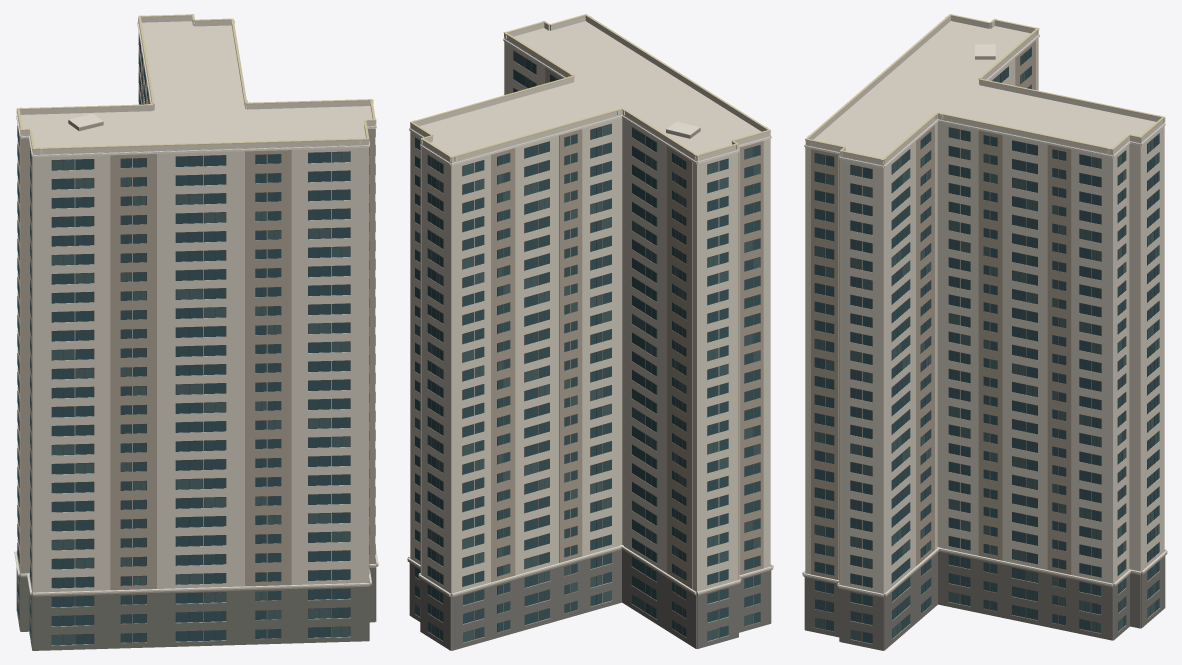
Rendered from bespoke-raemian-prestige-122.glb.
The picture shows the model from 3 angles, left to right: view 1: azimuth 30°, elevation 25°; view 2: azimuth 150°, elevation 25°; view 3: azimuth 270°, elevation 25°; orthographic projection. The views are drawn at different scales.
Visible parts, largest first — view 1: Prestige_warm_ivory_rendered_wall008, Prestige_recessed_blue_green_window008, Prestige_wide_taupe_pilasters008, Prestige_dark_bronze_thin_window_frame008, Prestige_dark_brown_grey_stone_base008, Prestige_muted_green_window_pair008, Prestige_pale_limestone_band008, Prestige_cream_gold_crown_coping008; view 2: Prestige_warm_ivory_rendered_wall008, Prestige_recessed_blue_green_window008, Prestige_wide_taupe_pilasters008, Prestige_dark_bronze_thin_window_frame008, Prestige_dark_brown_grey_stone_base008, Prestige_muted_green_window_pair008, Prestige_pale_limestone_band008, Prestige_cream_gold_crown_coping008; view 3: Prestige_warm_ivory_rendered_wall008, Prestige_recessed_blue_green_window008, Prestige_wide_taupe_pilasters008, Prestige_dark_bronze_thin_window_frame008, Prestige_dark_brown_grey_stone_base008, Prestige_muted_green_window_pair008, Prestige_pale_limestone_band008, Prestige_cream_gold_crown_coping008.
Boxes of the visible parts, x1=… form: Prestige_warm_ivory_rendered_wall008: x1=17, y1=16, x2=375, y2=645; Prestige_recessed_blue_green_window008: x1=17, y1=41, x2=369, y2=644; Prestige_wide_taupe_pilasters008: x1=18, y1=51, x2=378, y2=643; Prestige_dark_bronze_thin_window_frame008: x1=17, y1=33, x2=375, y2=645; Prestige_dark_brown_grey_stone_base008: x1=16, y1=553, x2=376, y2=650; Prestige_muted_green_window_pair008: x1=17, y1=34, x2=369, y2=645; Prestige_pale_limestone_band008: x1=14, y1=19, x2=378, y2=594; Prestige_cream_gold_crown_coping008: x1=16, y1=14, x2=376, y2=149; Prestige_warm_ivory_rendered_wall008: x1=410, y1=16, x2=770, y2=650; Prestige_recessed_blue_green_window008: x1=415, y1=59, x2=760, y2=640; Prestige_wide_taupe_pilasters008: x1=407, y1=67, x2=773, y2=637; Prestige_dark_bronze_thin_window_frame008: x1=415, y1=50, x2=760, y2=642; Prestige_dark_brown_grey_stone_base008: x1=409, y1=549, x2=771, y2=650; Prestige_muted_green_window_pair008: x1=415, y1=51, x2=760, y2=642; Prestige_pale_limestone_band008: x1=407, y1=34, x2=773, y2=595; Prestige_cream_gold_crown_coping008: x1=410, y1=14, x2=770, y2=158; Prestige_warm_ivory_rendered_wall008: x1=805, y1=16, x2=1164, y2=644; Prestige_recessed_blue_green_window008: x1=815, y1=48, x2=1159, y2=643; Prestige_wide_taupe_pilasters008: x1=802, y1=40, x2=1167, y2=631; Prestige_dark_bronze_thin_window_frame008: x1=814, y1=47, x2=1159, y2=643; Prestige_dark_brown_grey_stone_base008: x1=804, y1=551, x2=1165, y2=650; Prestige_muted_green_window_pair008: x1=815, y1=72, x2=1159, y2=641; Prestige_pale_limestone_band008: x1=802, y1=30, x2=1167, y2=595; Prestige_cream_gold_crown_coping008: x1=805, y1=14, x2=1165, y2=160.
Size of the model in its own units: 47.69 by 73.7 by 49.69.
